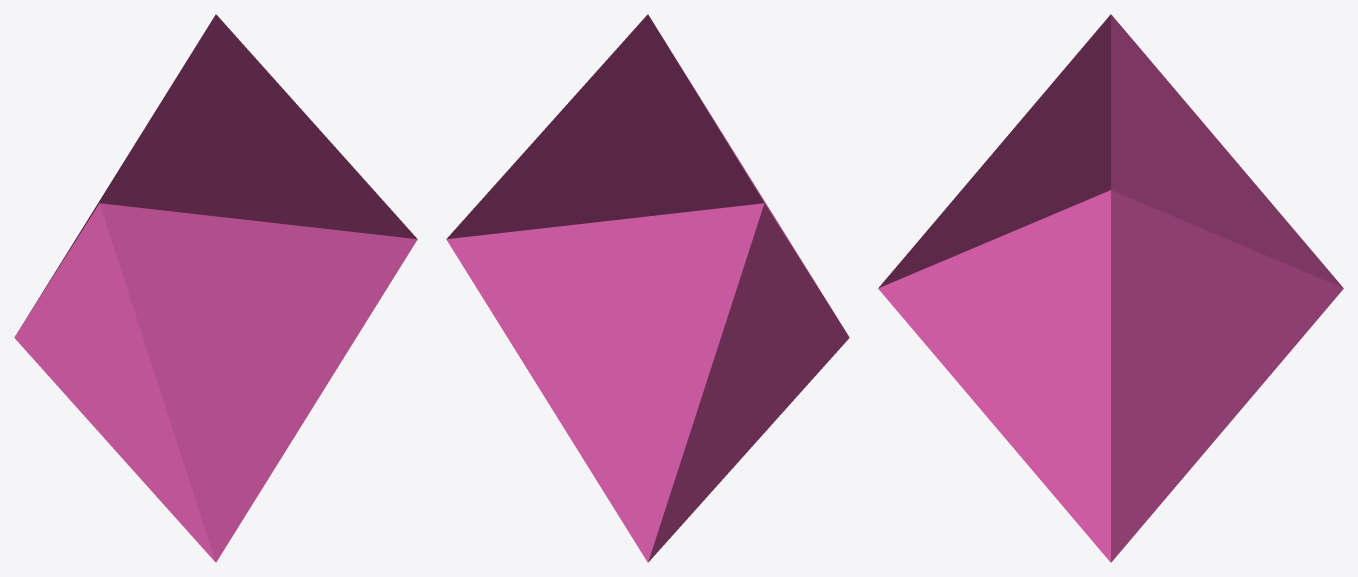
The model's file is pretty-like-yard.glb.
3 renders of one model, left to right at view 1: azimuth 30°, elevation 25°; view 2: azimuth 150°, elevation 25°; view 3: azimuth 270°, elevation 25°, orthographic.
Bounding box in the file's own units: 2 × 2.6 × 2.
